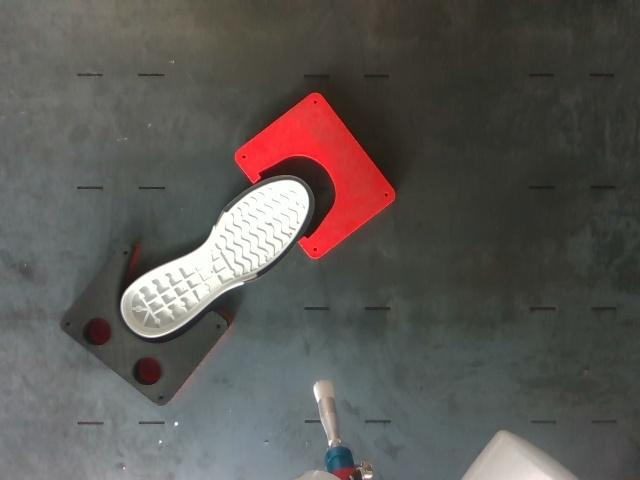shoes: (120, 179, 311, 338)
